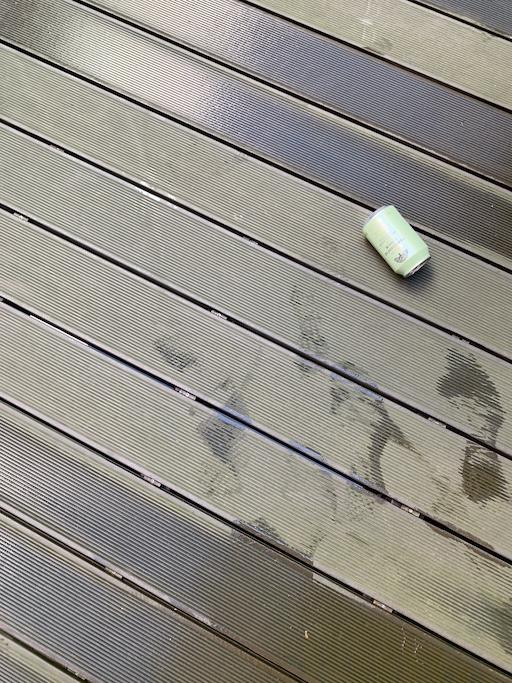Aluminum can: (358, 202, 450, 304)
